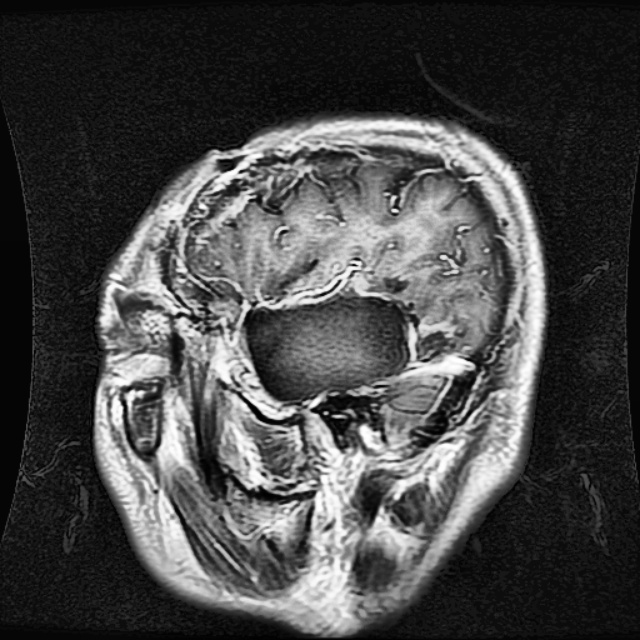Meningioma: (243, 293, 415, 403)
